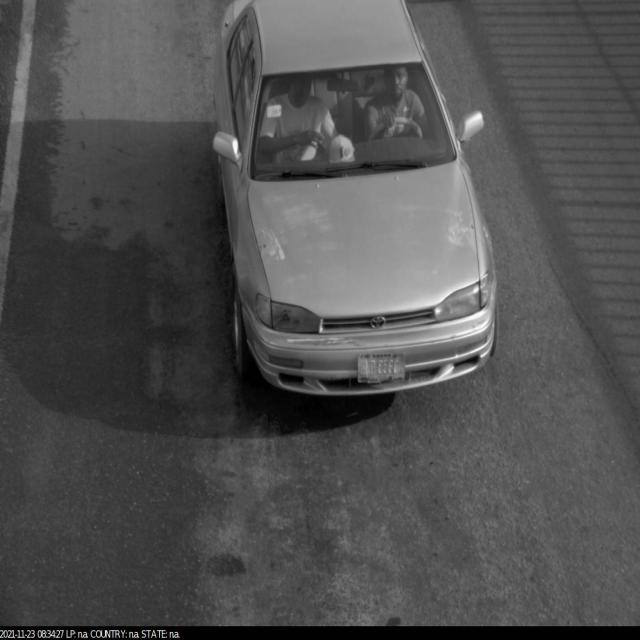windshield: (225, 46, 472, 210)
